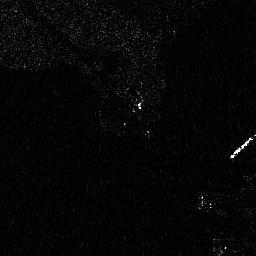ship: (229, 133, 256, 159)
